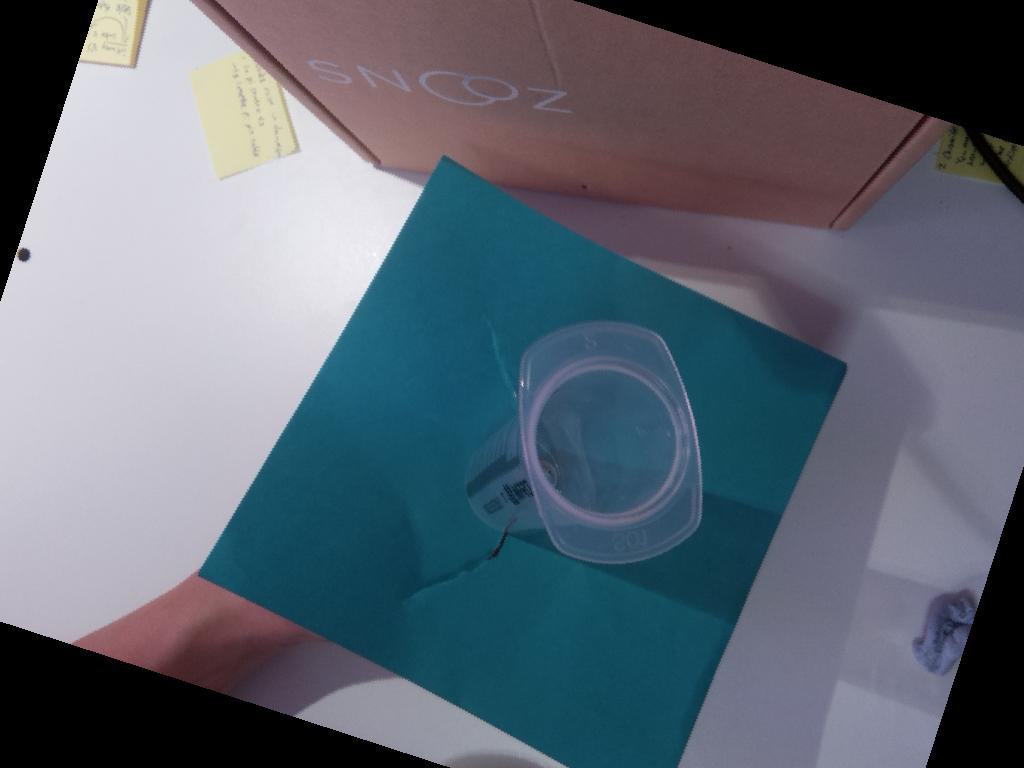clean: (518, 319, 705, 564)
